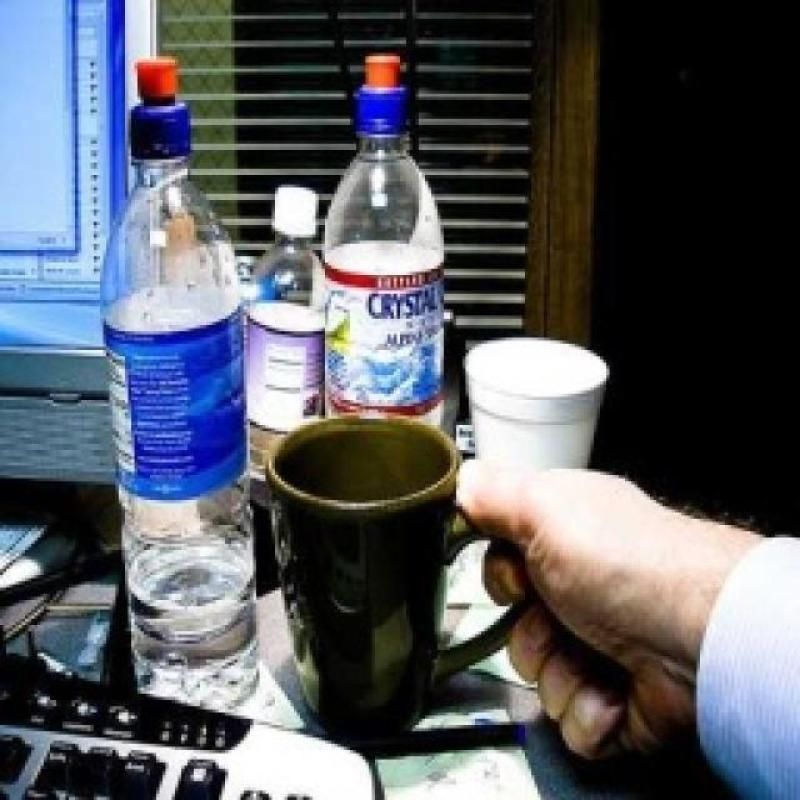botella: (106, 59, 262, 719), (320, 53, 449, 457), (245, 189, 324, 520)
